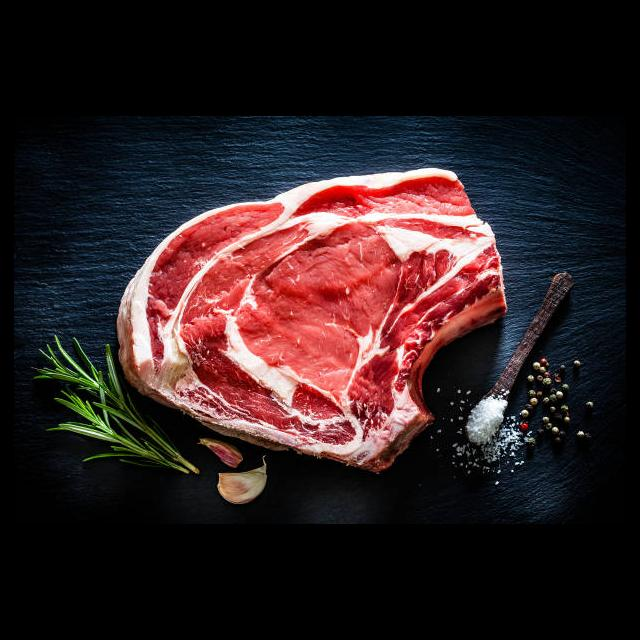beef: (118, 170, 509, 475)
